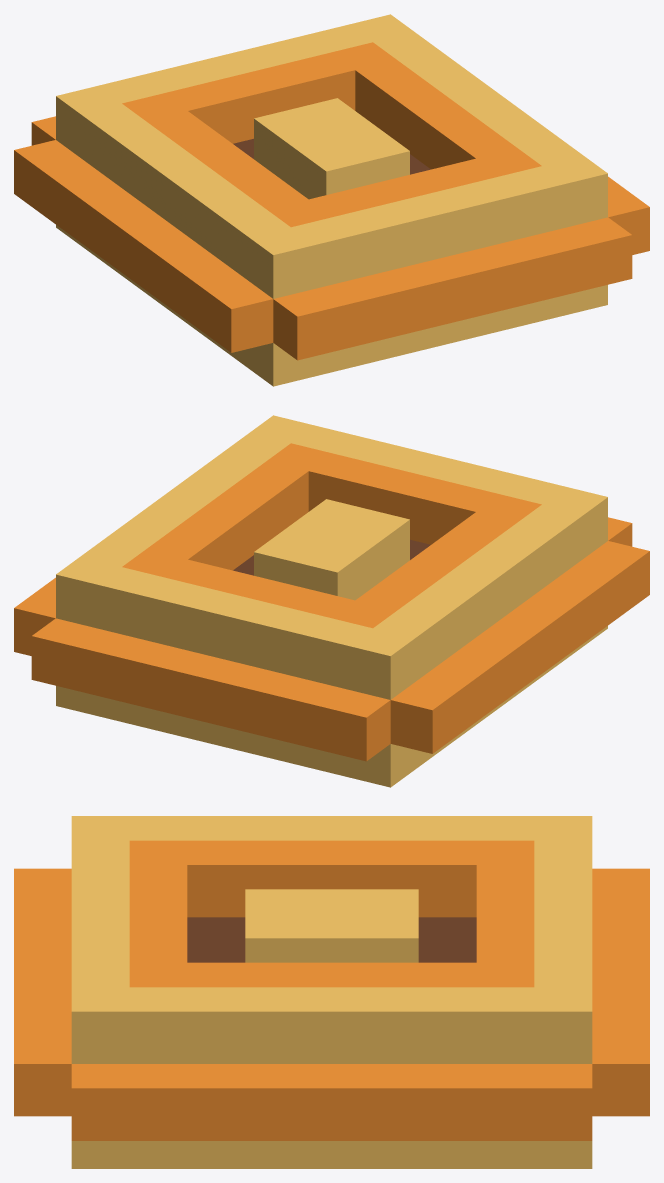
Rendered from Voxel Universe Objects-55.obj.
3 renders of one model, top to bottom at view 1: azimuth 30°, elevation 25°; view 2: azimuth 150°, elevation 25°; view 3: azimuth 270°, elevation 25°, orthographic. The views are drawn at different scales.
Size of the model in its own units: 1 by 0.3 by 1.1.
Materials: 1 (1 with a texture image).
